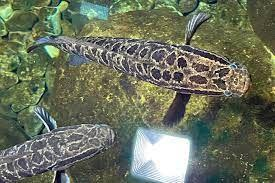Snakehead: (29, 27, 257, 118), (0, 105, 136, 181)
